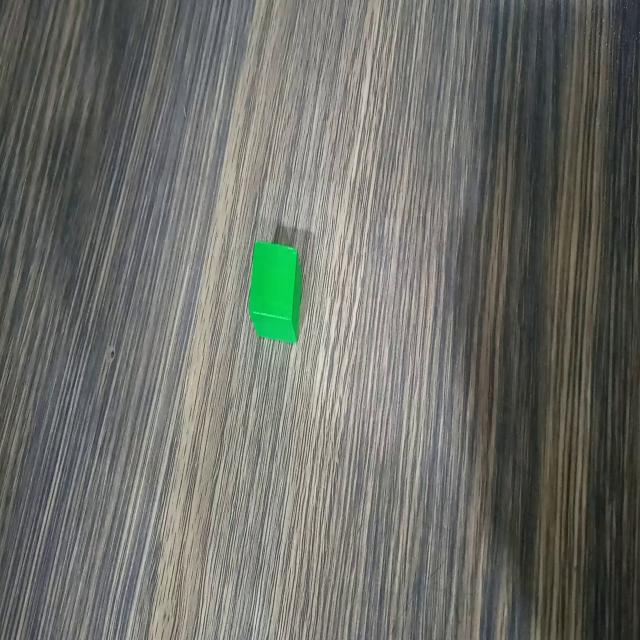cube: (246, 235, 305, 346)
